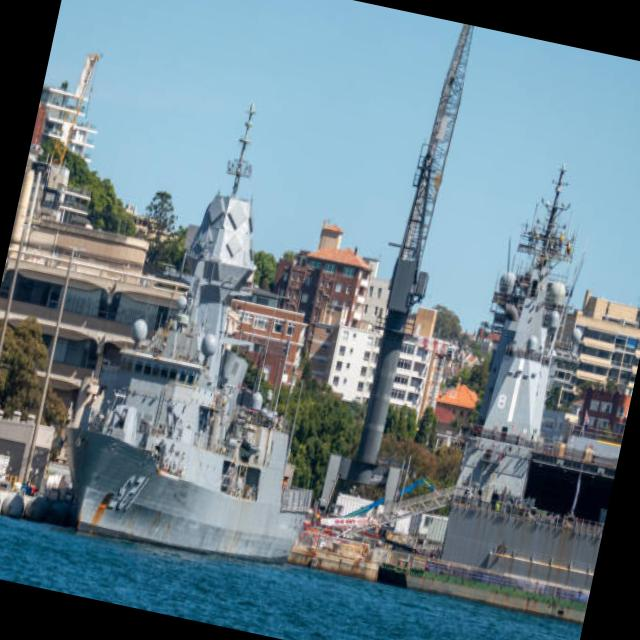Military: (67, 101, 311, 561), (431, 168, 621, 611)
